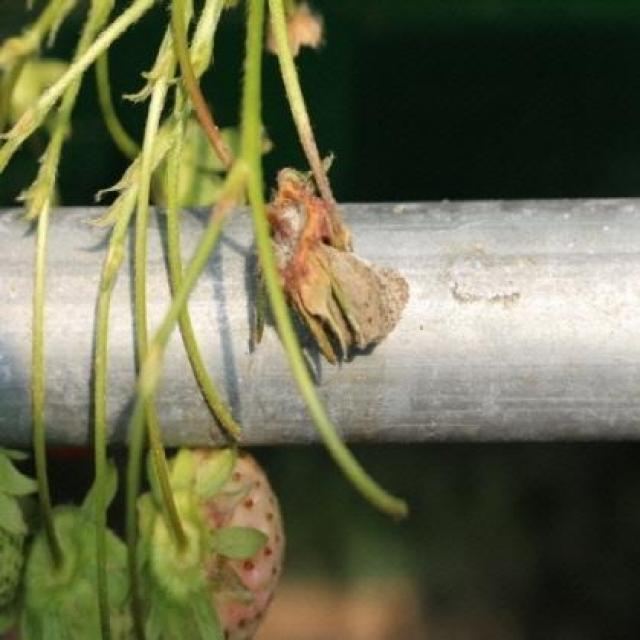Gray Mold: (251, 169, 411, 364)
